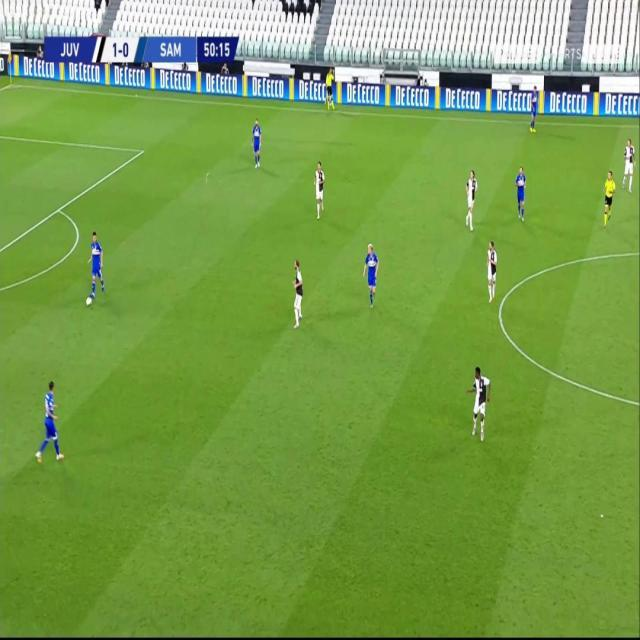ball: (85, 294, 92, 307)
player: (33, 379, 63, 467), (466, 363, 492, 444), (86, 227, 106, 303), (361, 241, 380, 310), (290, 256, 306, 330), (464, 167, 479, 231), (621, 135, 636, 193), (485, 238, 498, 303), (514, 164, 528, 221), (313, 159, 326, 219), (250, 117, 263, 170), (528, 85, 540, 135)
referee: (601, 168, 617, 228), (324, 65, 336, 113)
